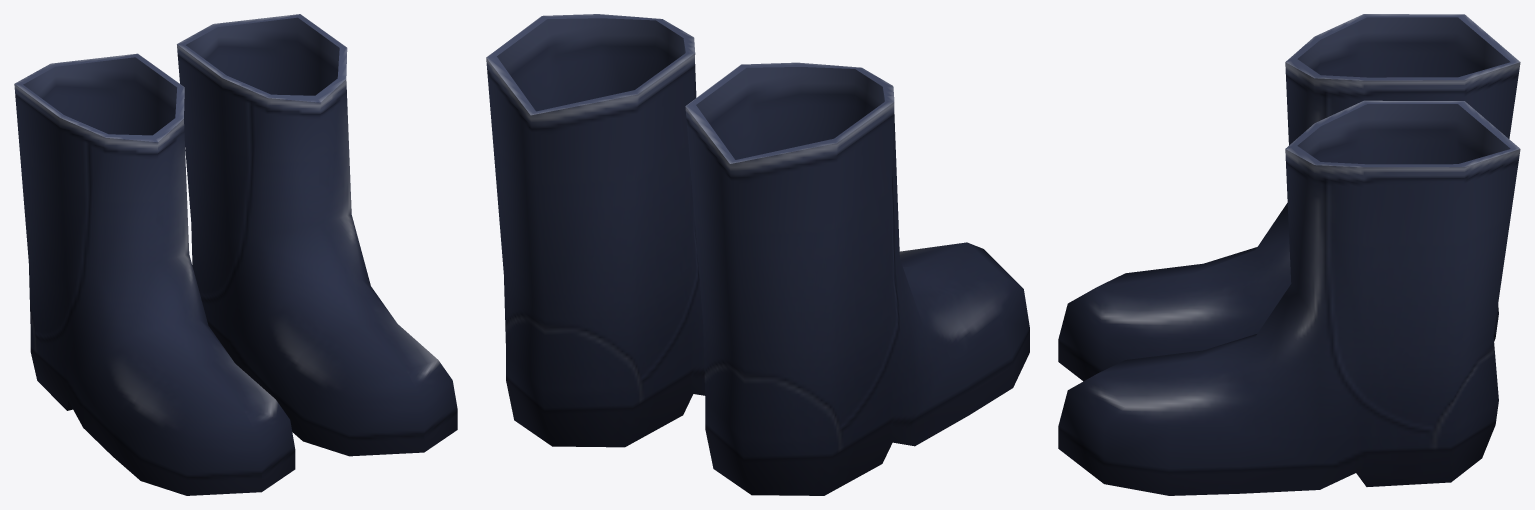
File: set_rainboots_05.fbx
3 renders of one model, left to right at view 1: azimuth 30°, elevation 25°; view 2: azimuth 150°, elevation 25°; view 3: azimuth 270°, elevation 25°, orthographic. The views are drawn at different scales.
Visible parts, largest first — view 1: rainboots_05_R, rainboots_05_L; view 2: rainboots_05_R, rainboots_05_L; view 3: rainboots_05_L, rainboots_05_R.
Boxes of the visible parts, x1=… form: rainboots_05_R: x1=14, y1=53, x2=295, y2=495; rainboots_05_L: x1=177, y1=14, x2=457, y2=456; rainboots_05_R: x1=685, y1=62, x2=1029, y2=495; rainboots_05_L: x1=486, y1=14, x2=705, y2=447; rainboots_05_L: x1=1058, y1=100, x2=1520, y2=495; rainboots_05_R: x1=1058, y1=14, x2=1520, y2=381.
Bounding box in the file's own units: 20.89 × 19.47 × 25.15.
